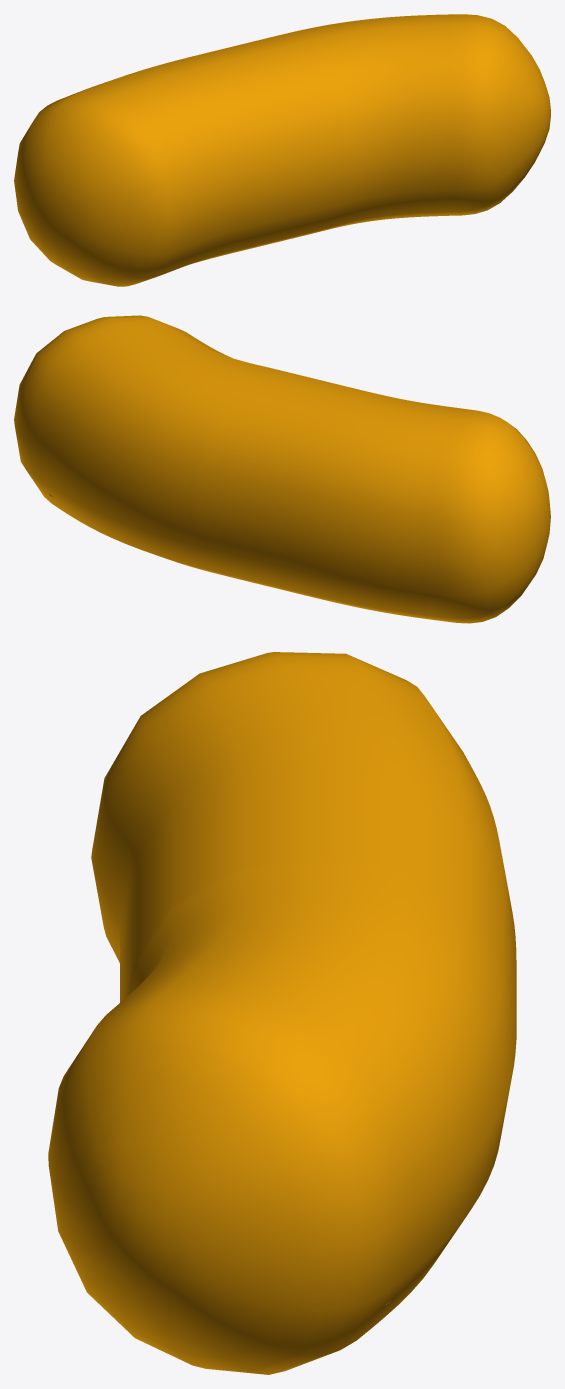
Rendered from Mitochondria.fbx.
3 renders of one model, top to bottom at view 1: azimuth 30°, elevation 25°; view 2: azimuth 150°, elevation 25°; view 3: azimuth 270°, elevation 25°, orthographic. The views are drawn at different scales.
Parts seen in each view (by area): view 1: pCube1; view 2: pCube1; view 3: pCube1.
Part boxes in pixels (x1,y1,x2,y2): pCube1: (14, 14, 550, 286); pCube1: (14, 315, 550, 623); pCube1: (48, 652, 516, 1374).
Bounding box in the file's own units: 2.69 × 0.9375 × 1.11.
